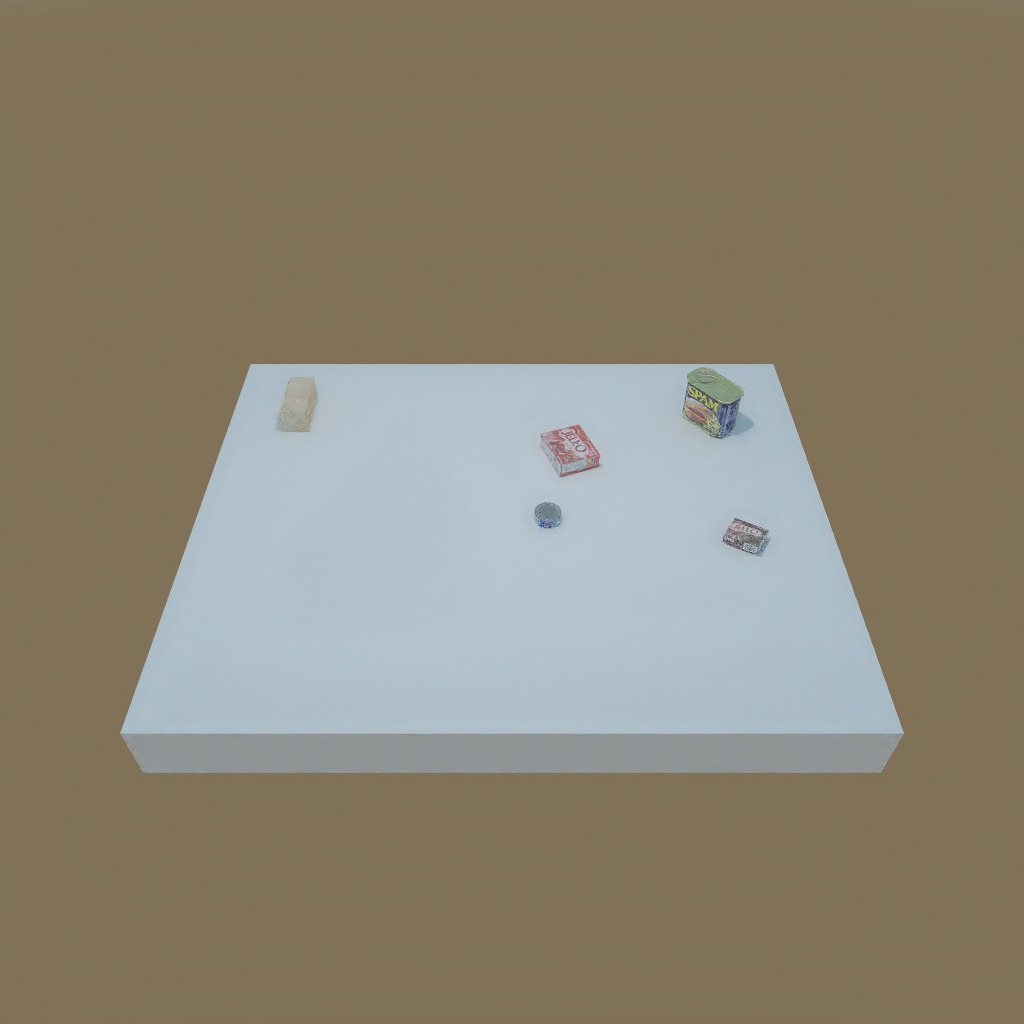gelatin_box: (540, 421, 602, 481)
potted_meat_can: (682, 367, 741, 440)
pudding_box: (721, 517, 769, 559)
wood_block: (277, 375, 321, 435)
